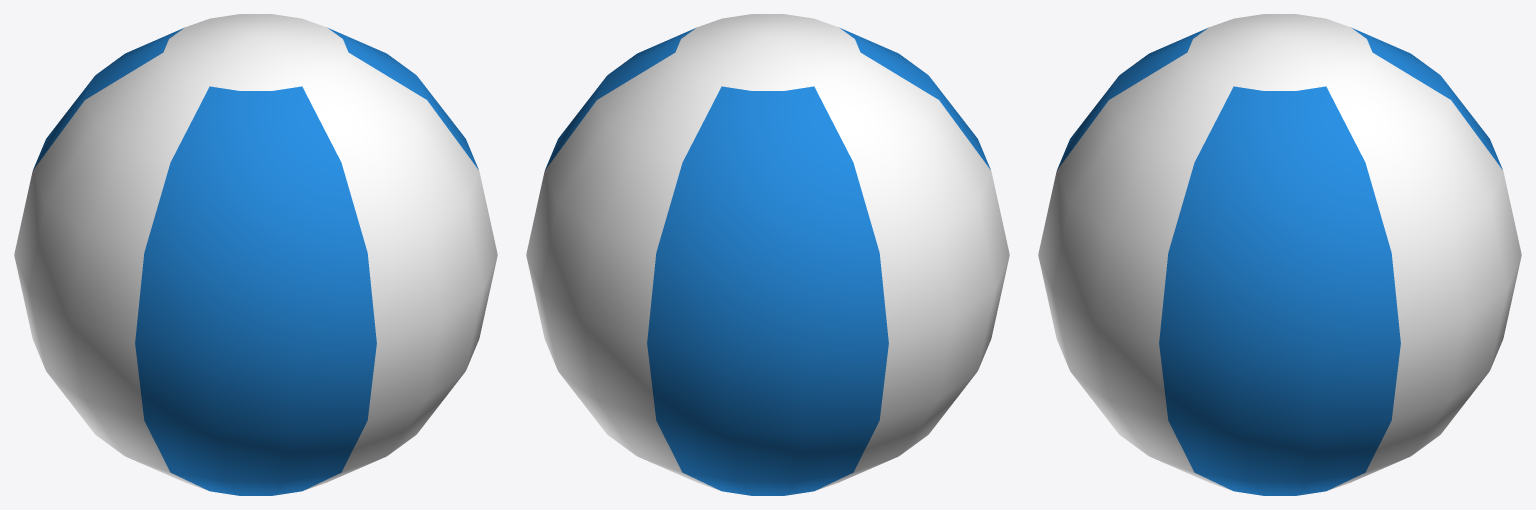
File: Prop_Ball_02.fbx
3 renders of one model, left to right at view 1: azimuth 30°, elevation 25°; view 2: azimuth 150°, elevation 25°; view 3: azimuth 270°, elevation 25°, orthographic.
Parts seen in each view (by area): view 1: Prop_Ball_02; view 2: Prop_Ball_02; view 3: Prop_Ball_02.
Boxes of the visible parts, left/top/right/bottom form: Prop_Ball_02: left=14, top=14, right=497, bottom=495; Prop_Ball_02: left=526, top=14, right=1009, bottom=495; Prop_Ball_02: left=1038, top=14, right=1521, bottom=495.
Bounding box in the file's own units: 42.09 × 42.74 × 42.74.
